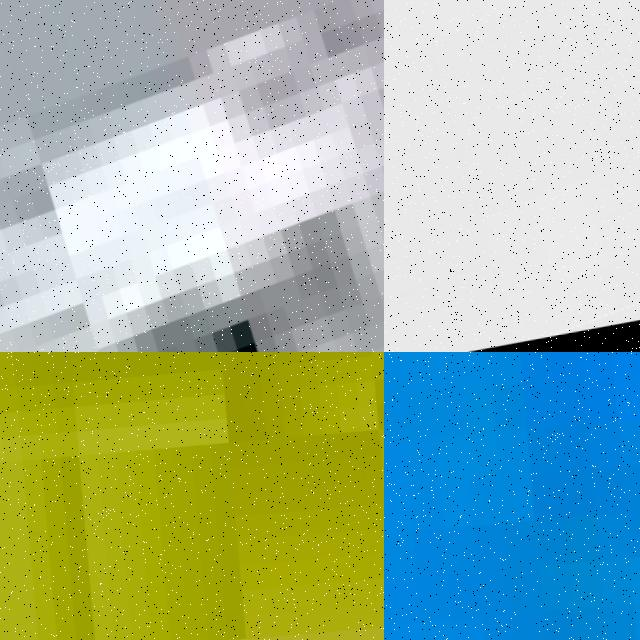0: (0, 0, 384, 352)
drone: (384, 0, 640, 352)
